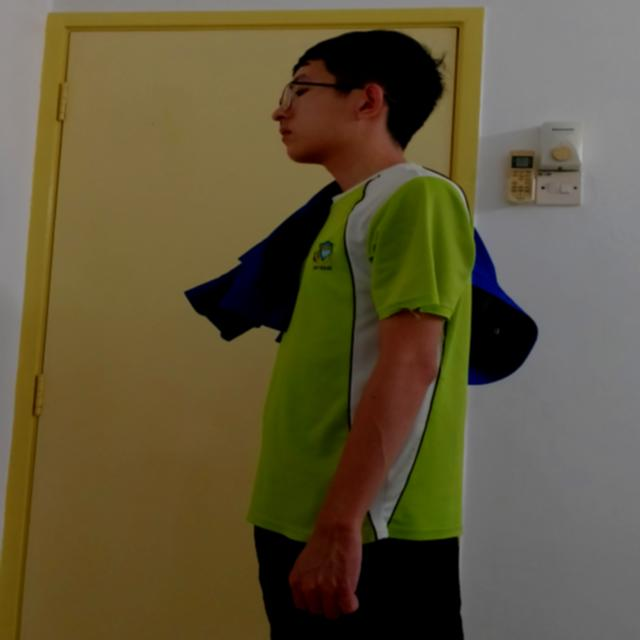person_without_labcoat: (185, 30, 537, 640)
